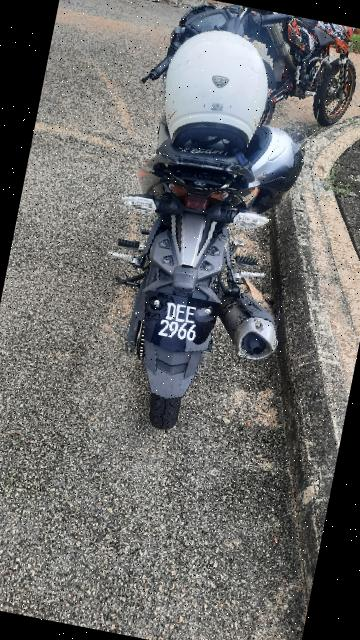License_Plate: (133, 287, 232, 367)
motorcycle: (72, 1, 353, 457)
